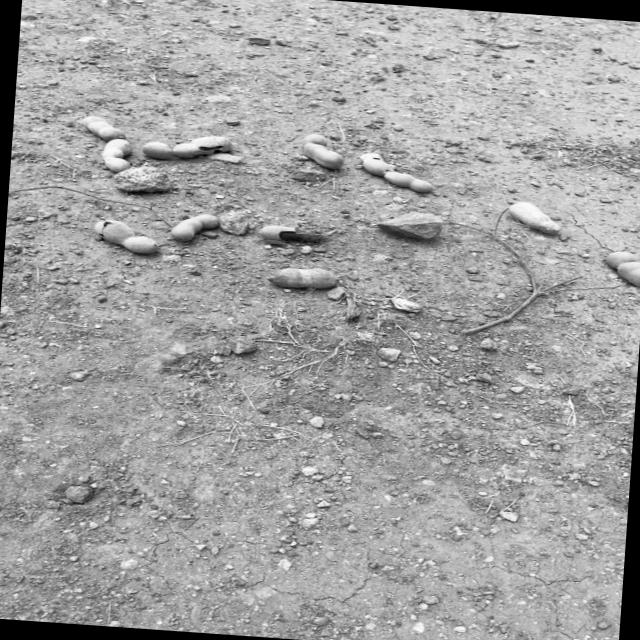tamarind: (139, 127, 238, 162), (356, 150, 436, 192), (80, 218, 161, 254), (503, 194, 560, 233), (167, 206, 223, 244), (266, 264, 342, 290), (296, 130, 342, 168), (78, 114, 131, 136)
